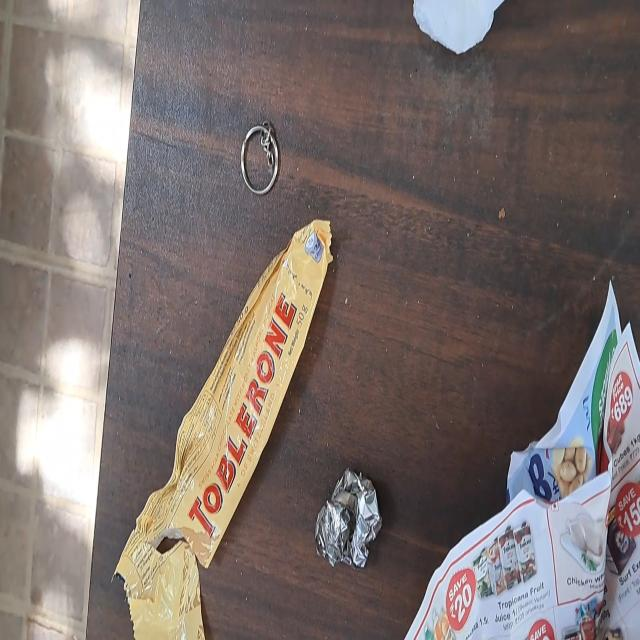Anorganik: (114, 209, 316, 640), (318, 470, 381, 570), (238, 123, 284, 195)
Organik: (405, 289, 640, 640), (408, 0, 510, 57)
